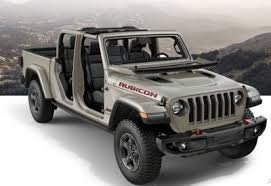mobil: (13, 25, 264, 181)
